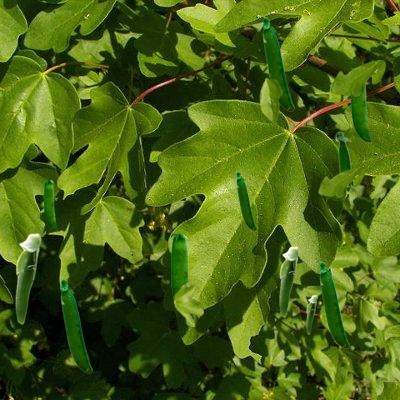pea: (60, 278, 91, 372), (262, 16, 293, 110), (319, 261, 348, 347), (15, 233, 40, 323), (171, 234, 193, 317), (351, 68, 370, 142), (279, 246, 298, 316), (236, 171, 255, 229), (335, 131, 350, 193), (44, 180, 56, 230), (306, 295, 316, 333)
